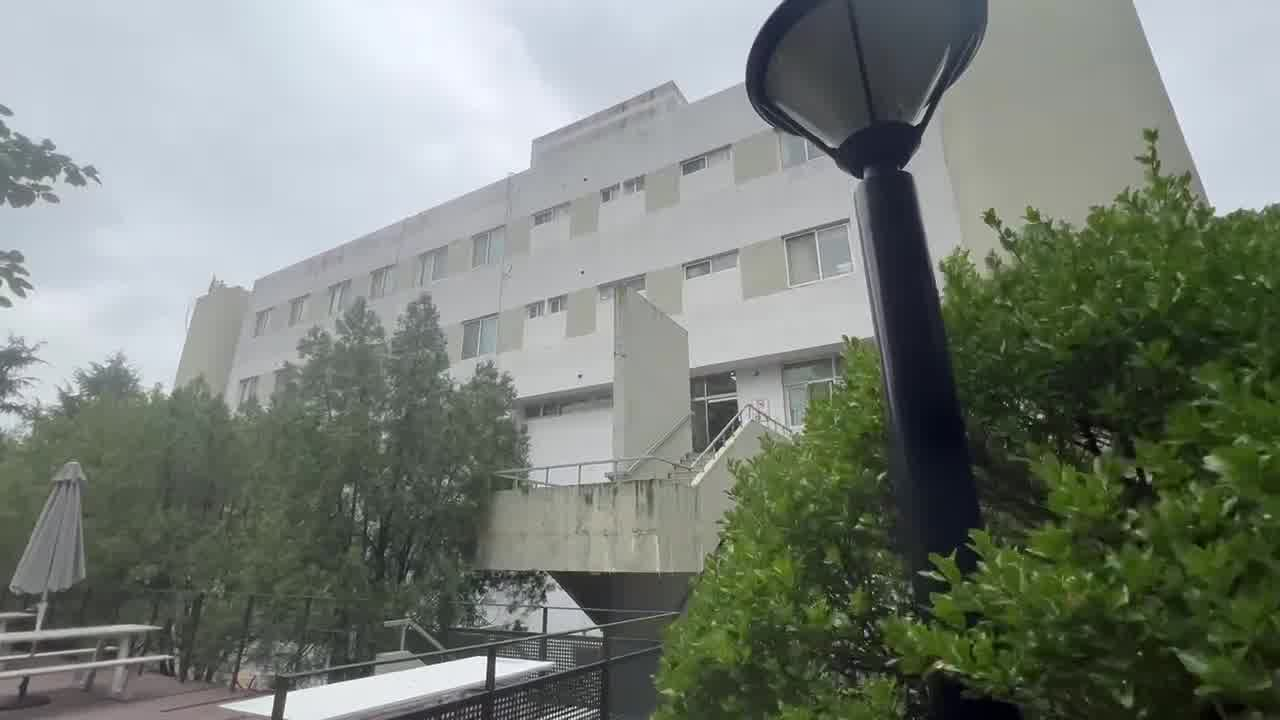low: (484, 111, 756, 553)
